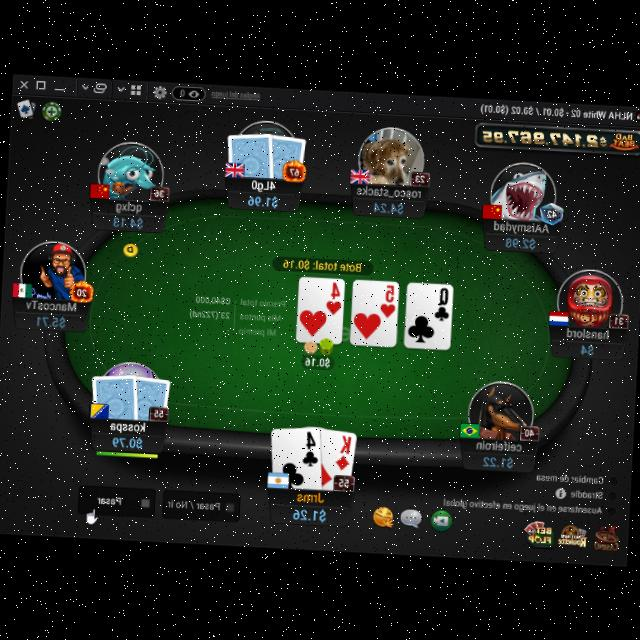4c: (300, 426, 320, 466)
4h: (325, 276, 344, 314)
5h: (378, 280, 398, 317)
Kd: (333, 431, 352, 470)
Qc: (432, 284, 452, 321)
bet_text: (302, 352, 332, 368)
card_back: (89, 366, 141, 418), (224, 126, 276, 178), (264, 130, 308, 180), (130, 371, 172, 418)
dealer: (121, 238, 140, 256)
pot_text: (280, 254, 362, 272)
stack_text: (291, 502, 327, 521), (371, 196, 405, 213), (247, 190, 280, 206), (504, 232, 537, 248), (112, 432, 144, 448), (36, 310, 68, 326), (112, 211, 144, 227), (482, 451, 514, 466), (579, 340, 595, 352)
